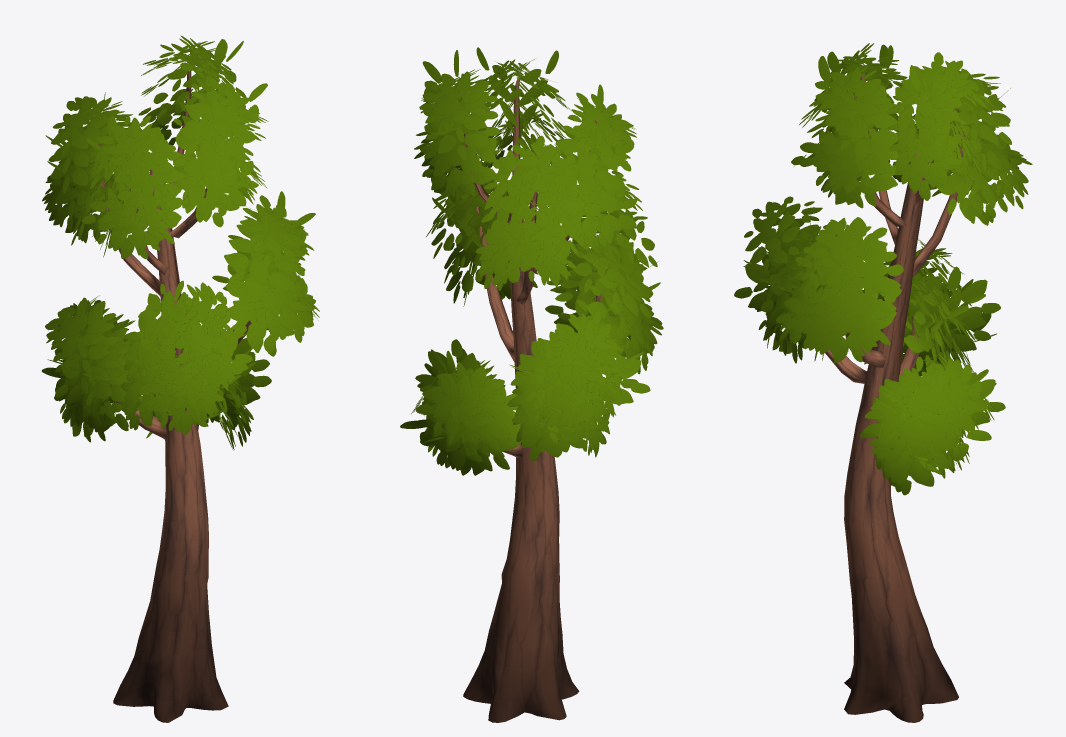
The model's file is CommonTree_3_lod.gltf.
3 renders of one model, left to right at view 1: azimuth 30°, elevation 25°; view 2: azimuth 150°, elevation 25°; view 3: azimuth 270°, elevation 25°, orthographic. The views are drawn at different scales.
Visible parts, largest first — view 1: CommonTree_3; view 2: CommonTree_3; view 3: CommonTree_3.
Part boxes in pixels (bbox=[...]): CommonTree_3: bbox=[41, 35, 319, 722]; CommonTree_3: bbox=[400, 47, 663, 722]; CommonTree_3: bbox=[734, 43, 1032, 722].
Size of the model in its own units: 3.9 by 8.95 by 3.96.
2 materials, 2 textured.
